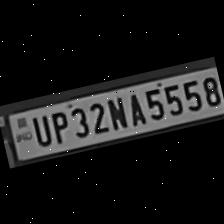2: (84, 97, 111, 136)
3: (64, 102, 90, 140)
5: (140, 83, 166, 122), (178, 75, 204, 113), (160, 79, 185, 117)
8: (196, 71, 222, 108)
A: (120, 88, 146, 128)
N: (103, 92, 130, 132)
P: (45, 107, 72, 144)
U: (27, 112, 53, 148)
